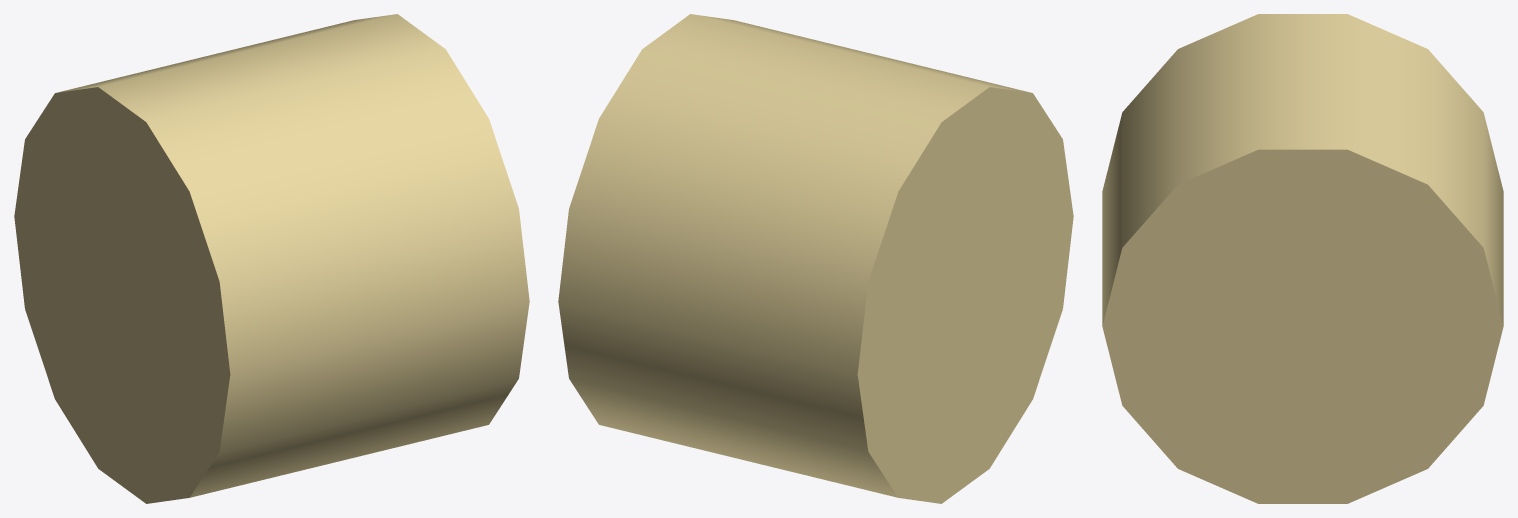
Rendered from hay_bale.glb.
3 renders of one model, left to right at view 1: azimuth 30°, elevation 25°; view 2: azimuth 150°, elevation 25°; view 3: azimuth 270°, elevation 25°, orthographic. The views are drawn at different scales.
Parts seen in each view (by area): view 1: hay_bale; view 2: hay_bale; view 3: hay_bale.
Boxes of the visible parts, <box> form: hay_bale: <box>14,14,529,503</box>; hay_bale: <box>558,14,1073,503</box>; hay_bale: <box>1102,14,1503,503</box>.
Bounding box in the file's own units: 1.2 × 1.46 × 1.5.
